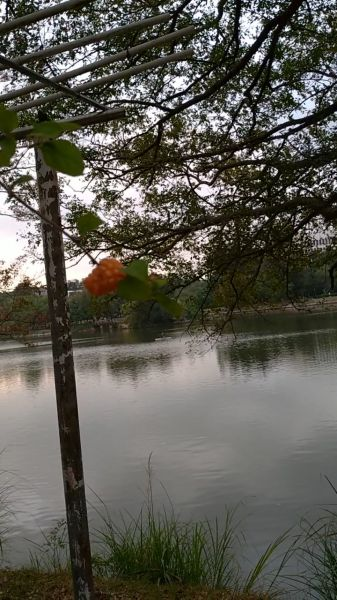eggs: (80, 253, 137, 298)
